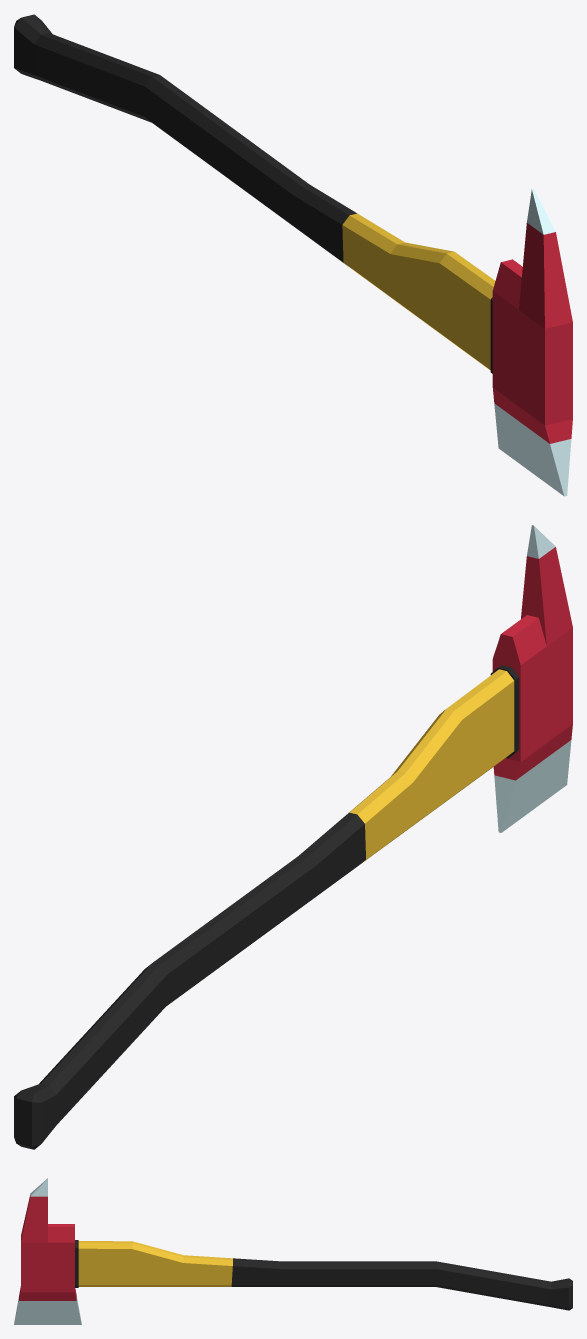
The model's file is fireaxe.fbx.
3 renders of one model, top to bottom at view 1: azimuth 30°, elevation 25°; view 2: azimuth 150°, elevation 25°; view 3: azimuth 270°, elevation 25°, orthographic. The views are drawn at different scales.
Parts seen in each view (by area): view 1: fireaxe; view 2: fireaxe; view 3: fireaxe.
Part boxes in pixels (box(x1,y1,x2,y2)): fireaxe: box(14, 14, 572, 496); fireaxe: box(14, 525, 572, 1149); fireaxe: box(14, 1178, 572, 1324).
Size of the model in its own units: 2.72 by 26.32 by 91.21.
